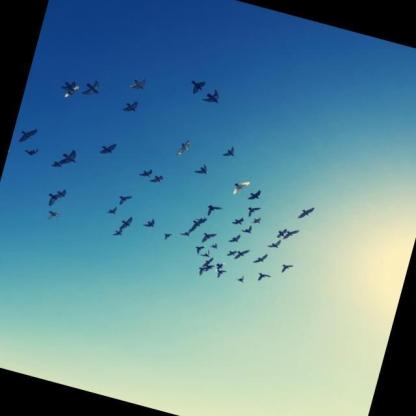bird: (199, 86, 225, 108), (16, 124, 39, 147), (82, 76, 105, 98), (186, 76, 207, 98), (232, 178, 252, 199), (59, 147, 80, 167), (188, 214, 207, 236), (127, 74, 148, 93), (297, 204, 316, 223), (45, 190, 64, 209), (176, 138, 193, 159), (98, 140, 118, 157), (206, 203, 225, 220), (282, 226, 300, 243), (201, 230, 219, 247), (122, 98, 140, 115), (233, 247, 251, 263), (119, 214, 135, 232), (44, 207, 62, 223), (64, 83, 80, 101), (117, 192, 134, 208), (246, 204, 262, 220), (193, 162, 211, 176), (253, 251, 269, 266), (61, 78, 77, 93), (22, 145, 40, 158), (248, 187, 263, 202), (222, 144, 237, 159), (267, 236, 283, 250), (256, 272, 273, 285), (280, 262, 295, 276), (149, 172, 165, 185), (193, 243, 207, 257), (276, 225, 289, 240), (49, 158, 65, 170), (141, 216, 155, 229), (227, 232, 241, 245), (213, 259, 226, 273), (111, 225, 125, 238), (202, 255, 215, 269), (138, 166, 153, 178), (213, 268, 227, 280), (240, 223, 253, 235), (196, 264, 208, 277), (230, 215, 244, 226), (106, 204, 118, 216), (200, 249, 213, 260), (179, 227, 192, 238), (251, 215, 263, 226), (55, 188, 67, 199), (225, 248, 238, 258), (204, 263, 215, 274), (235, 273, 246, 283), (162, 231, 172, 242), (209, 241, 220, 250)
